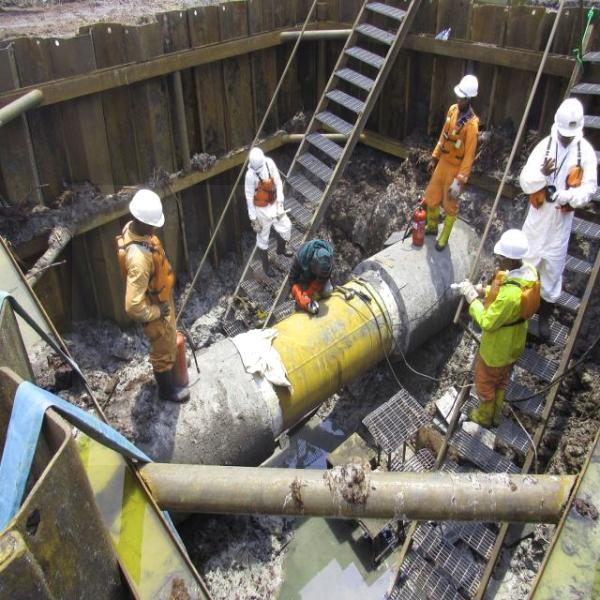no leak: (72, 185, 512, 465)
